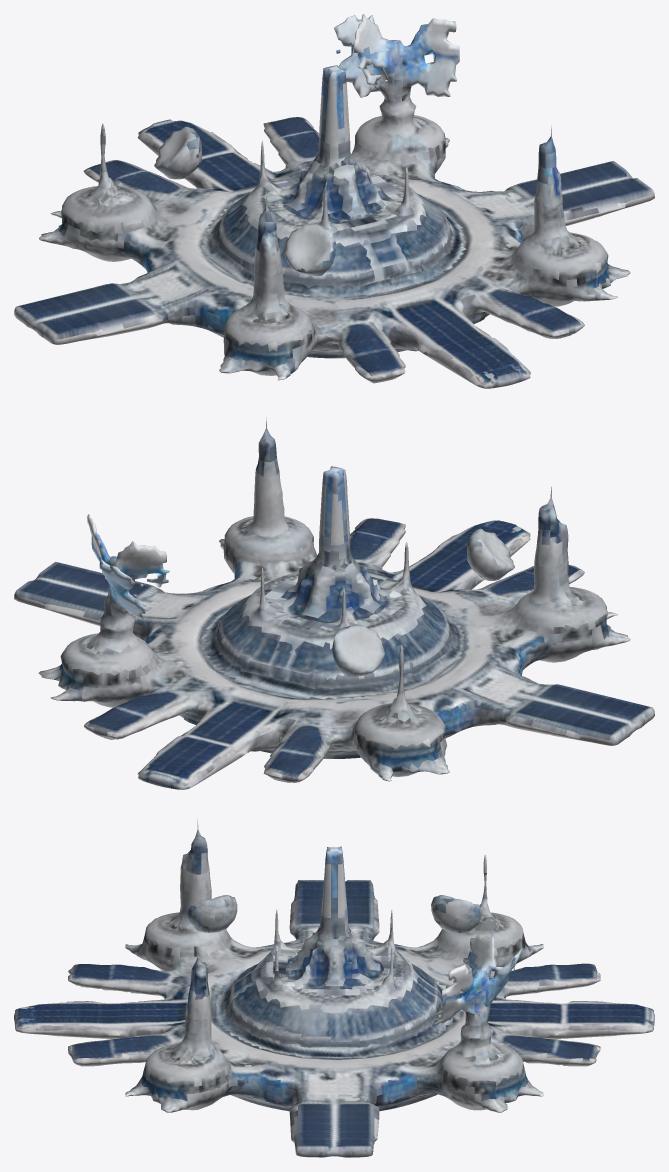
File: alliance_research_outpost_lod1.glb
3 views of the same model, one above another, from view 1: azimuth 30°, elevation 25°; view 2: azimuth 150°, elevation 25°; view 3: azimuth 270°, elevation 25° (orthographic). The views are drawn at different scales.
Parts seen in each view (by area): view 1: model; view 2: model; view 3: model.
Part boxes in pixels (box(x1,y1,x2,y2)): model: box(14, 14, 654, 388); model: box(14, 417, 654, 789); model: box(14, 818, 654, 1157).
Size of the model in its own units: 1.87 by 0.7653 by 1.88.
Materials: 1 (1 with a texture image).
